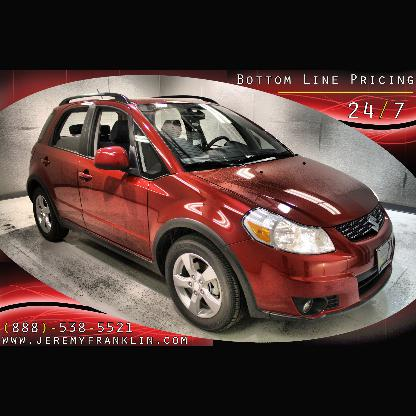Suzuki SX4 Hatchback 2012: (28, 89, 397, 335)
